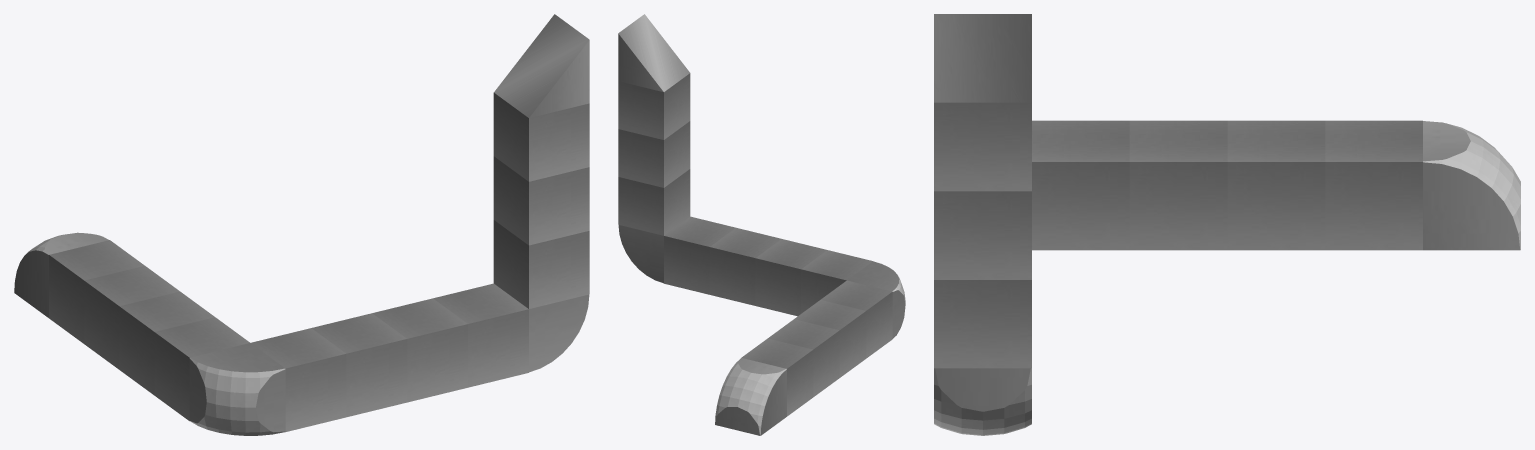
Rendered from texture5.glb.
3 views of the same model, side by side, from view 1: azimuth 30°, elevation 25°; view 2: azimuth 150°, elevation 25°; view 3: azimuth 270°, elevation 25° (orthographic). The views are drawn at different scales.
Parts seen in each view (by area): view 1: Cube.022; view 2: Cube.022; view 3: Cube.022.
Part boxes in pixels (x1,y1,x2,y2): Cube.022: (14,14,589,435); Cube.022: (618,14,905,435); Cube.022: (934,14,1520,435).
Bounding box in the file's own units: 12 × 10 × 12.
12 materials, 12 textured.
